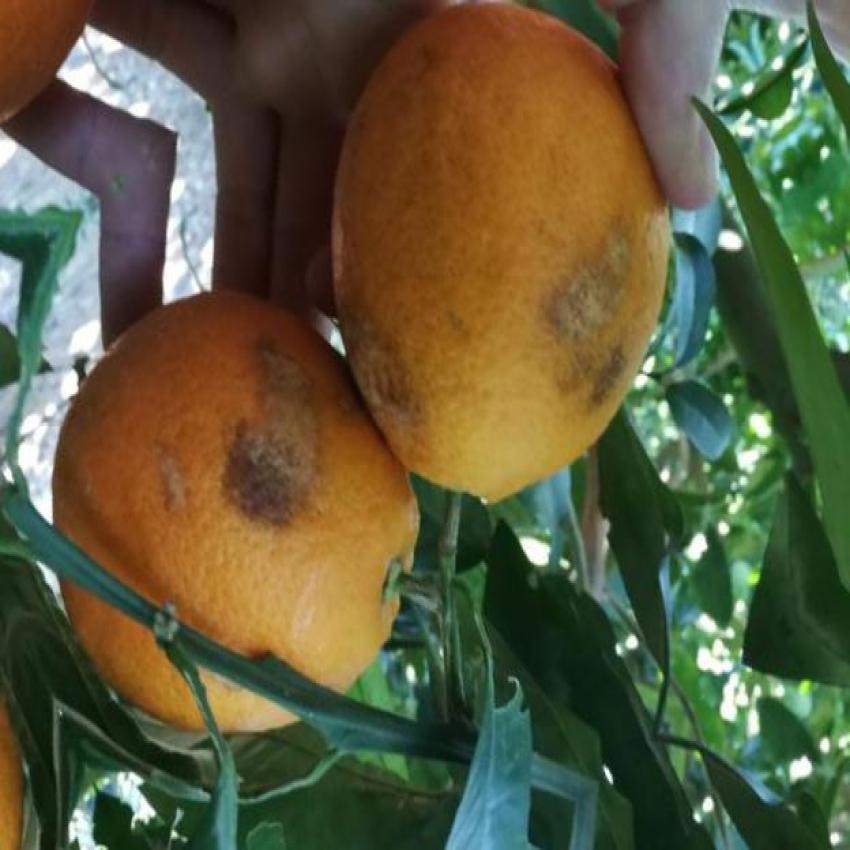Mal estado: (42, 271, 435, 754), (329, 0, 679, 529)
